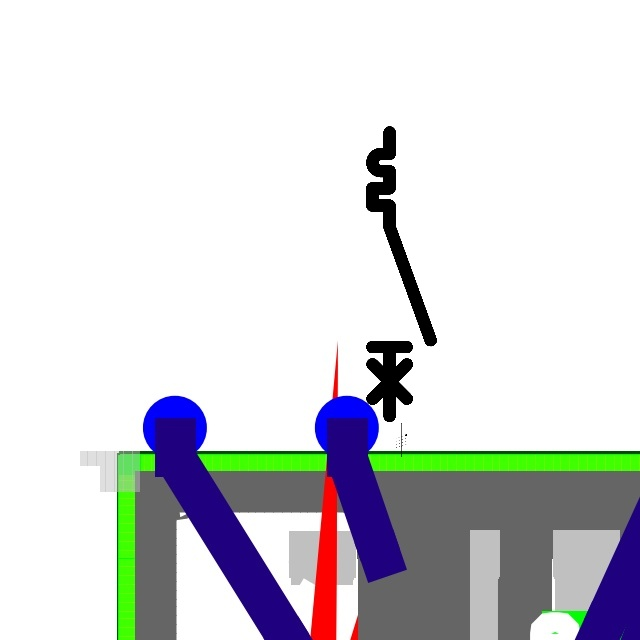interruptor_termomagnetico: (365, 125, 438, 423)
